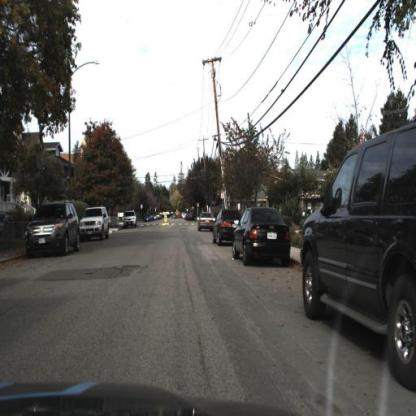car: (302, 122, 416, 395), (233, 203, 296, 267), (21, 202, 80, 256), (211, 207, 245, 249), (78, 204, 112, 243)
